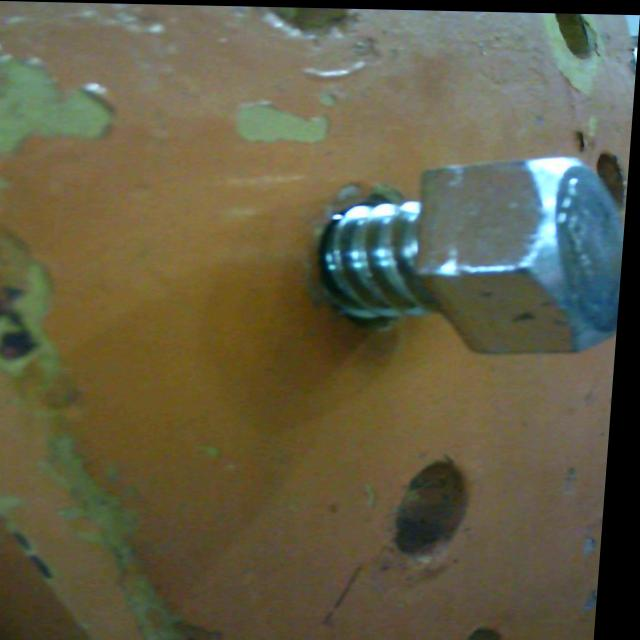Loose bolt: (319, 148, 633, 358)
Missing bolt: (393, 454, 484, 560), (554, 11, 607, 58), (594, 149, 633, 197), (458, 623, 523, 640)
Regular bolt: (313, 148, 618, 357)
